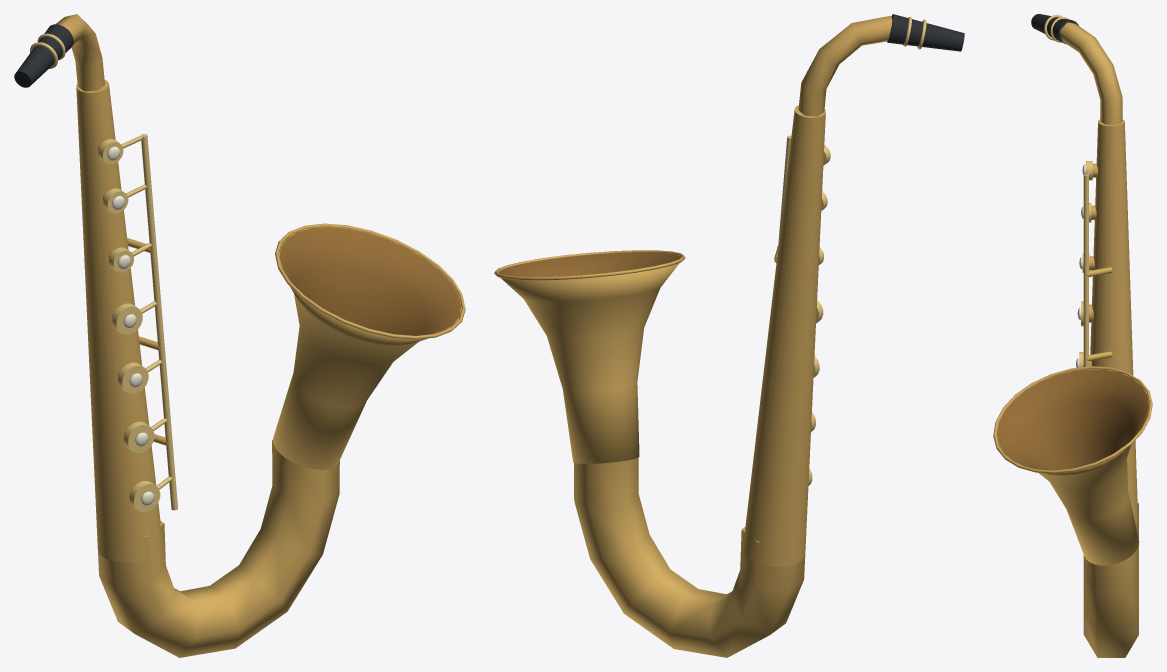
Rendered from instrument_saxophone.glb.
3 renders of one model, left to right at view 1: azimuth 30°, elevation 25°; view 2: azimuth 150°, elevation 25°; view 3: azimuth 270°, elevation 25°, orthographic. The views are drawn at different scales.
Visible parts, largest first — view 1: Saxophone_Open_Flared_Bell, Saxophone_Lower_U_Bow, Saxophone_Main_Conical_Body, Saxophone_Long_Key_Rod, Saxophone_Curved_Neck, Saxophone_Open_Flared_Bell_Rolled_Rim, Saxophone_Black_Mouthpiece; view 2: Saxophone_Main_Conical_Body, Saxophone_Open_Flared_Bell, Saxophone_Lower_U_Bow, Saxophone_Curved_Neck, Saxophone_Black_Mouthpiece, Saxophone_Open_Flared_Bell_Rolled_Rim; view 3: Saxophone_Open_Flared_Bell, Saxophone_Main_Conical_Body, Saxophone_Lower_U_Bow, Saxophone_Curved_Neck, Saxophone_Open_Flared_Bell_Rolled_Rim, Saxophone_Long_Key_Rod, Saxophone_Black_Mouthpiece.
Boxes of the visible parts, x1,y1,x2,y2 form: Saxophone_Open_Flared_Bell: (273, 226, 461, 469); Saxophone_Lower_U_Bow: (96, 439, 339, 657); Saxophone_Main_Conical_Body: (76, 80, 162, 562); Saxophone_Long_Key_Rod: (141, 134, 177, 510); Saxophone_Curved_Neck: (56, 14, 104, 91); Saxophone_Open_Flared_Bell_Rolled_Rim: (275, 223, 465, 339); Saxophone_Black_Mouthpiece: (14, 24, 73, 87); Saxophone_Main_Conical_Body: (743, 105, 825, 566); Saxophone_Open_Flared_Bell: (498, 252, 680, 463); Saxophone_Lower_U_Bow: (574, 457, 806, 657); Saxophone_Curved_Neck: (798, 15, 892, 116); Saxophone_Black_Mouthpiece: (887, 14, 964, 51); Saxophone_Open_Flared_Bell_Rolled_Rim: (494, 250, 685, 280); Saxophone_Open_Flared_Bell: (996, 368, 1149, 565); Saxophone_Main_Conical_Body: (1090, 119, 1137, 524); Saxophone_Lower_U_Bow: (1083, 502, 1138, 657); Saxophone_Curved_Neck: (1060, 22, 1122, 124); Saxophone_Open_Flared_Bell_Rolled_Rim: (993, 366, 1152, 473); Saxophone_Long_Key_Rod: (1083, 174, 1088, 366); Saxophone_Black_Mouthpiece: (1031, 14, 1078, 44).
Size of the model in its own units: 0.4831 by 0.6901 by 0.1785.
